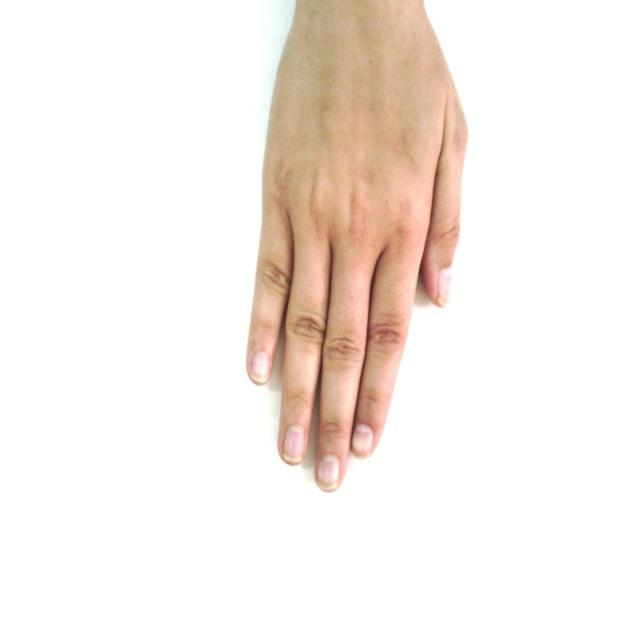Fingernail: (283, 426, 305, 462), (318, 456, 340, 490), (353, 426, 372, 457), (252, 352, 269, 379), (439, 268, 451, 305)
